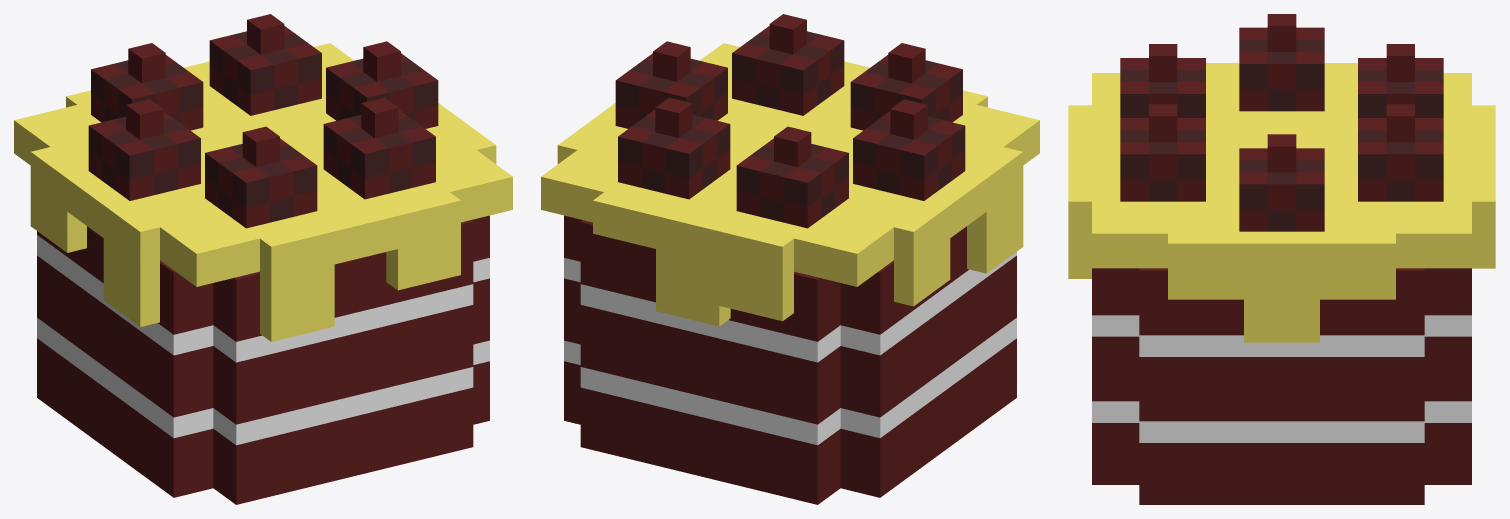
The model's file is cake.FBX.
3 views of the same model, side by side, from view 1: azimuth 30°, elevation 25°; view 2: azimuth 150°, elevation 25°; view 3: azimuth 270°, elevation 25° (orthographic). The views are drawn at different scales.
Visible parts, largest first — view 1: cake_base, cake_cream, cake_top1, cake_top6, cake_top2, cake_top4, cake_top5, cake_top3; view 2: cake_base, cake_cream, cake_top3, cake_top4, cake_top2, cake_top6, cake_top5, cake_top1; view 3: cake_base, cake_cream, cake_top2, cake_top5, cake_top4, cake_top6, cake_top3, cake_top1.
Boxes of the visible parts, x1,y1,x2,y2 form: cake_base: [37, 215, 489, 504]; cake_cream: [14, 43, 512, 341]; cake_top1: [205, 126, 317, 228]; cake_top6: [323, 97, 435, 199]; cake_top2: [88, 99, 200, 200]; cake_top4: [209, 14, 321, 115]; cake_top5: [326, 41, 438, 128]; cake_top3: [91, 43, 203, 130]; cake_base: [564, 215, 1016, 504]; cake_cream: [541, 43, 1039, 326]; cake_top3: [736, 126, 848, 228]; cake_top4: [618, 97, 730, 199]; cake_top2: [853, 99, 965, 200]; cake_top6: [732, 14, 844, 115]; cake_top5: [615, 41, 727, 128]; cake_top1: [850, 43, 962, 130]; cake_base: [1092, 268, 1471, 504]; cake_cream: [1068, 63, 1495, 342]; cake_top2: [1239, 14, 1324, 111]; cake_top5: [1239, 134, 1324, 231]; cake_top4: [1358, 104, 1443, 201]; cake_top6: [1120, 104, 1205, 201]; cake_top3: [1358, 44, 1443, 117]; cake_top1: [1120, 44, 1205, 117].
Size of the model in its own units: 90 by 80 by 90.
